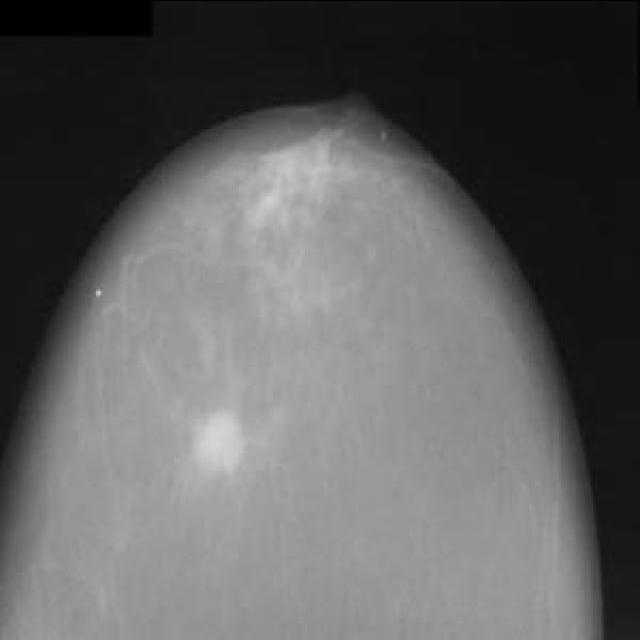tumor: (227, 116, 385, 230), (177, 402, 258, 477)
